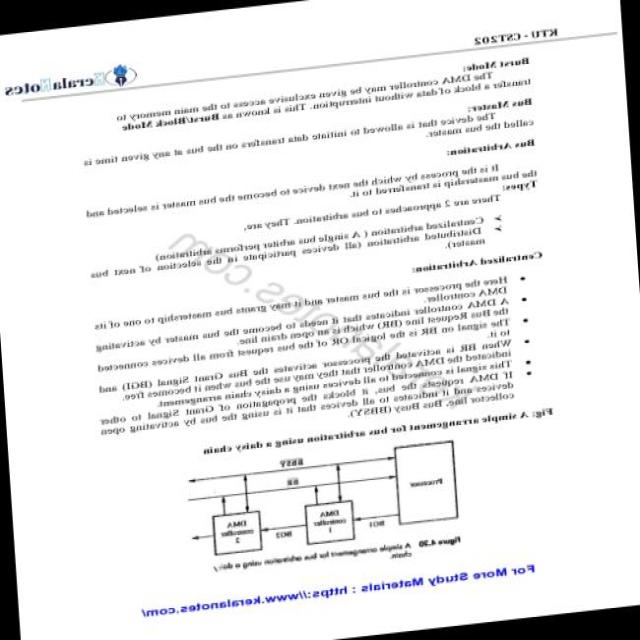Figure Detection - v3 Dataset Version2: (166, 430, 479, 594)
